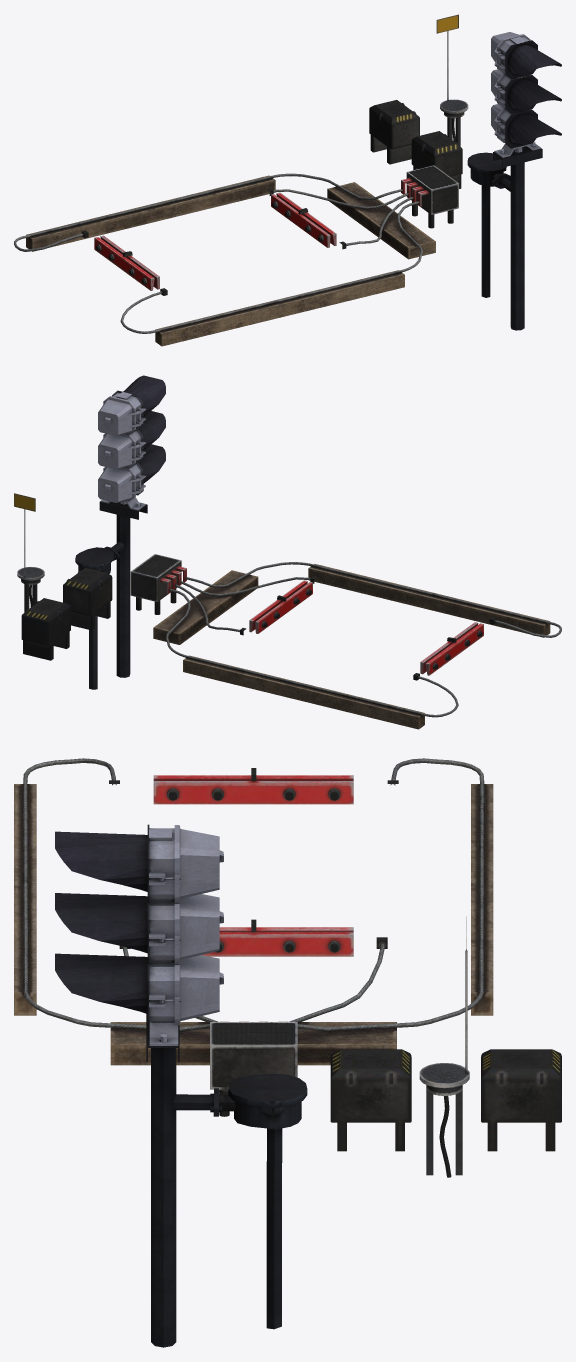
Rendered from RM_sig_KM1_3_exit.gltf.
3 renders of one model, top to bottom at view 1: azimuth 30°, elevation 25°; view 2: azimuth 150°, elevation 25°; view 3: azimuth 270°, elevation 25°, orthographic. The views are drawn at different scales.
Visible parts, largest first — view 1: Изостык, Object_2, Object_1, Object_3; view 2: Изостык, Object_2, Object_1, Object_3; view 3: Изостык, Object_2, Object_1, Object_3.
Boxes of the visible parts, x1=… form: Изостык: x1=14, y1=14, x2=468, y2=346; Object_2: x1=491, y1=32, x2=561, y2=157; Object_1: x1=491, y1=146, x2=542, y2=330; Object_3: x1=467, y1=152, x2=506, y2=297; Изостык: x1=14, y1=493, x2=561, y2=729; Object_2: x1=98, y1=375, x2=165, y2=510; Object_1: x1=99, y1=501, x2=147, y2=677; Object_3: x1=75, y1=547, x2=113, y2=689; Изостык: x1=14, y1=758, x2=561, y2=1177; Object_2: x1=55, y1=824, x2=223, y2=1045; Object_1: x1=146, y1=1014, x2=222, y2=1347; Object_3: x1=219, y1=1073, x2=307, y2=1329.
Bounding box in the file's own units: 4.06 × 2.49 × 2.43.
5 materials, 4 textured.
